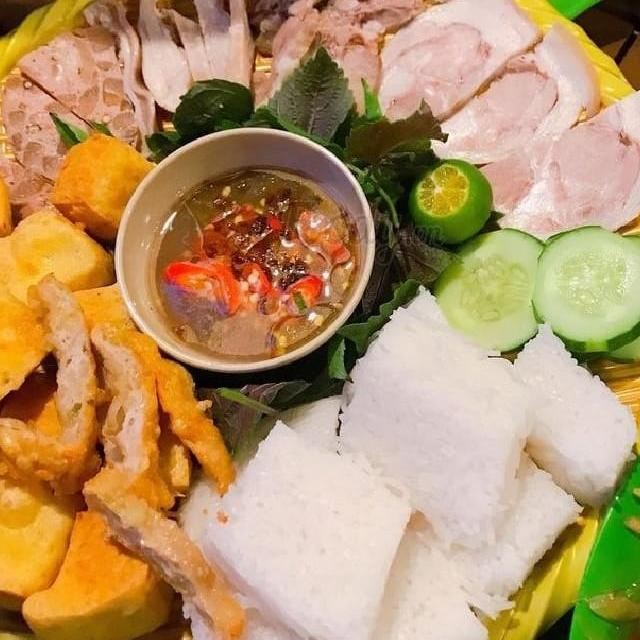bun: (174, 282, 640, 640)
bun dau: (0, 0, 640, 640)
cha com: (75, 318, 244, 522), (86, 485, 257, 640), (0, 266, 104, 506), (0, 375, 100, 497)
dau hu: (15, 500, 184, 640), (0, 196, 125, 328), (0, 461, 93, 612), (47, 124, 159, 248), (0, 266, 56, 407), (0, 154, 21, 248)
thit heo: (413, 14, 606, 170), (470, 78, 640, 242), (244, 0, 462, 111), (373, 0, 554, 131)
